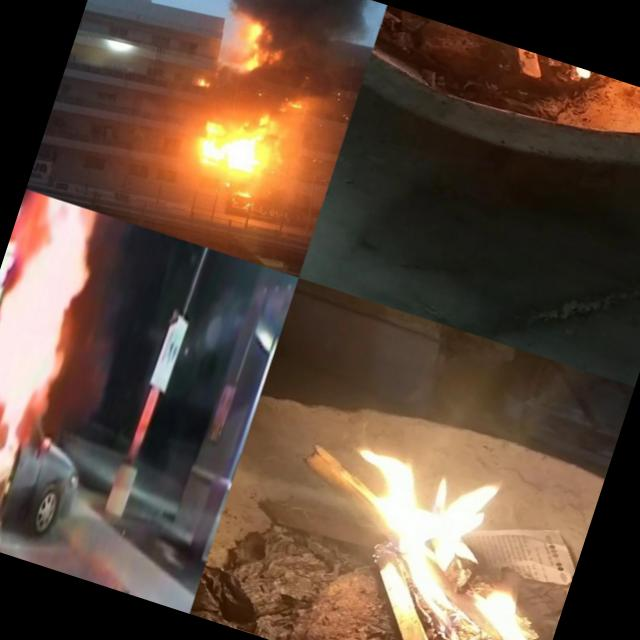fire: (316, 437, 588, 640), (0, 192, 114, 496), (189, 99, 291, 189), (228, 13, 279, 76), (188, 73, 216, 96)
smoke: (249, 0, 386, 126), (175, 0, 287, 27)
